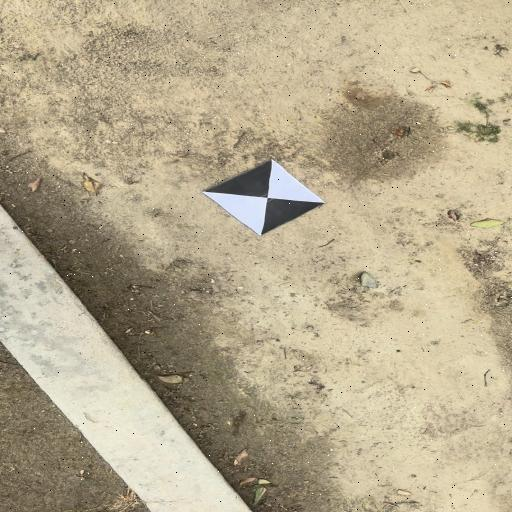target: (204, 160, 325, 235)
